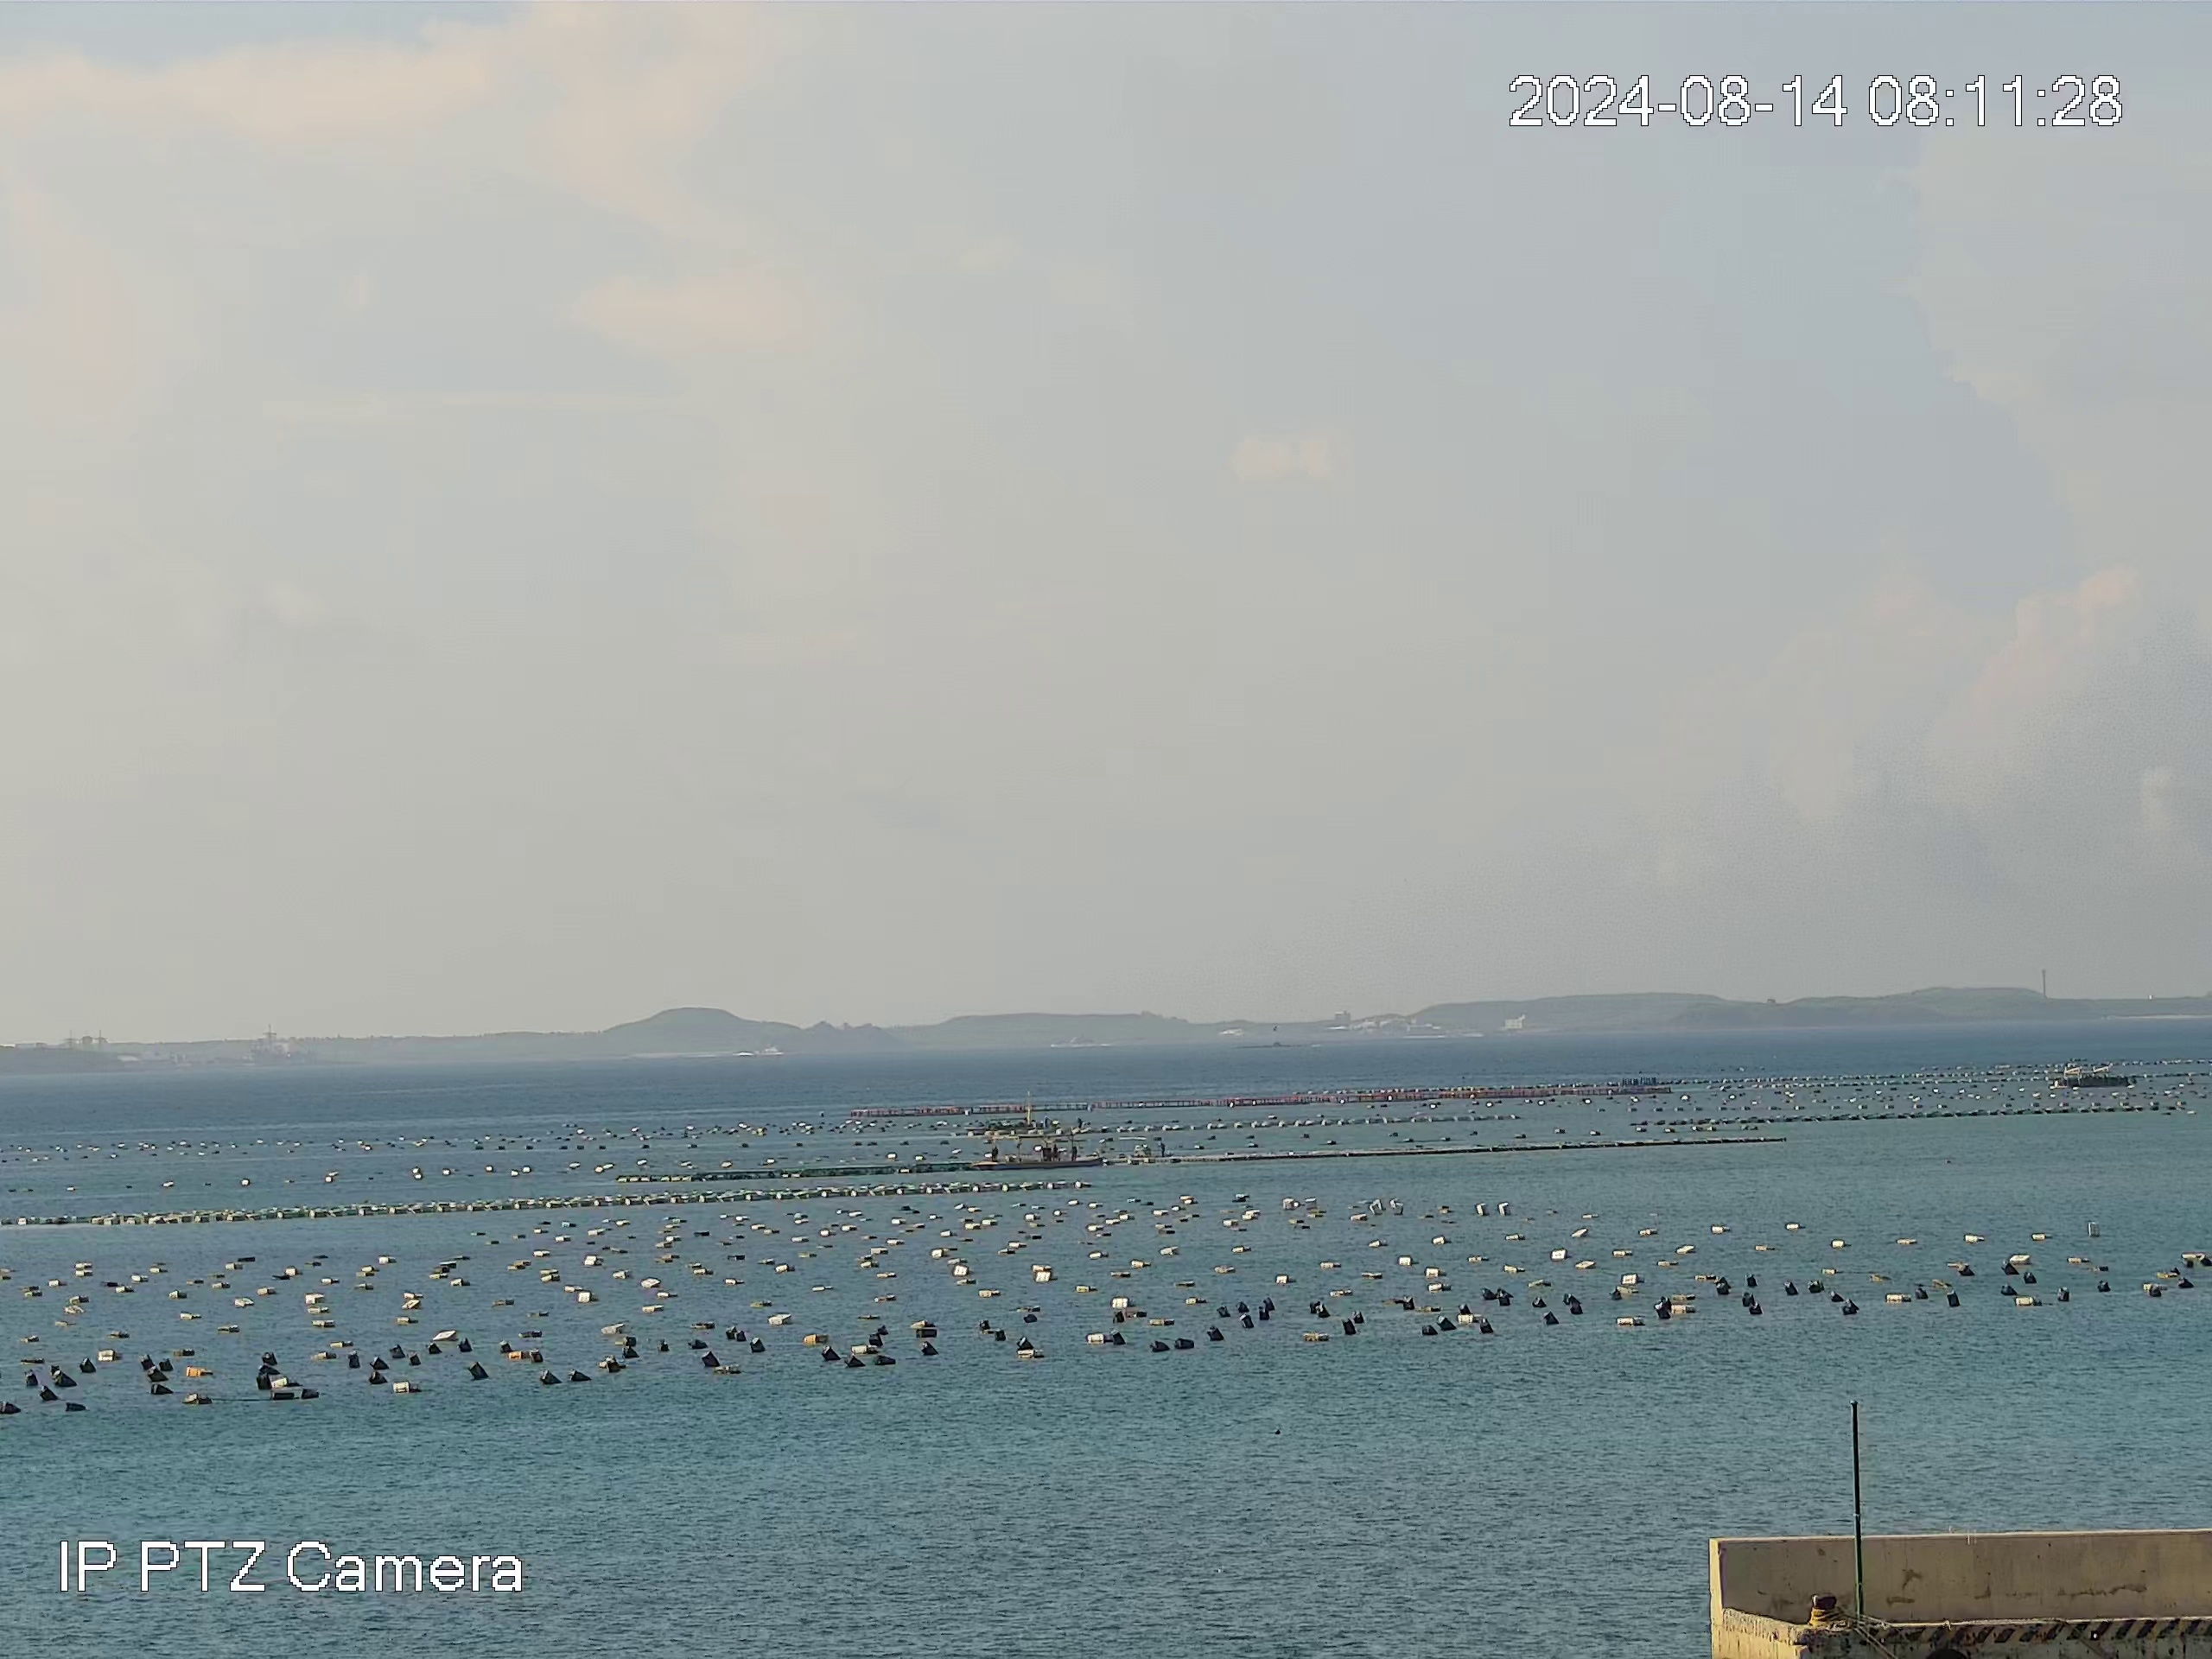boat: (988, 1133, 1094, 1173), (2050, 1060, 2137, 1094)
